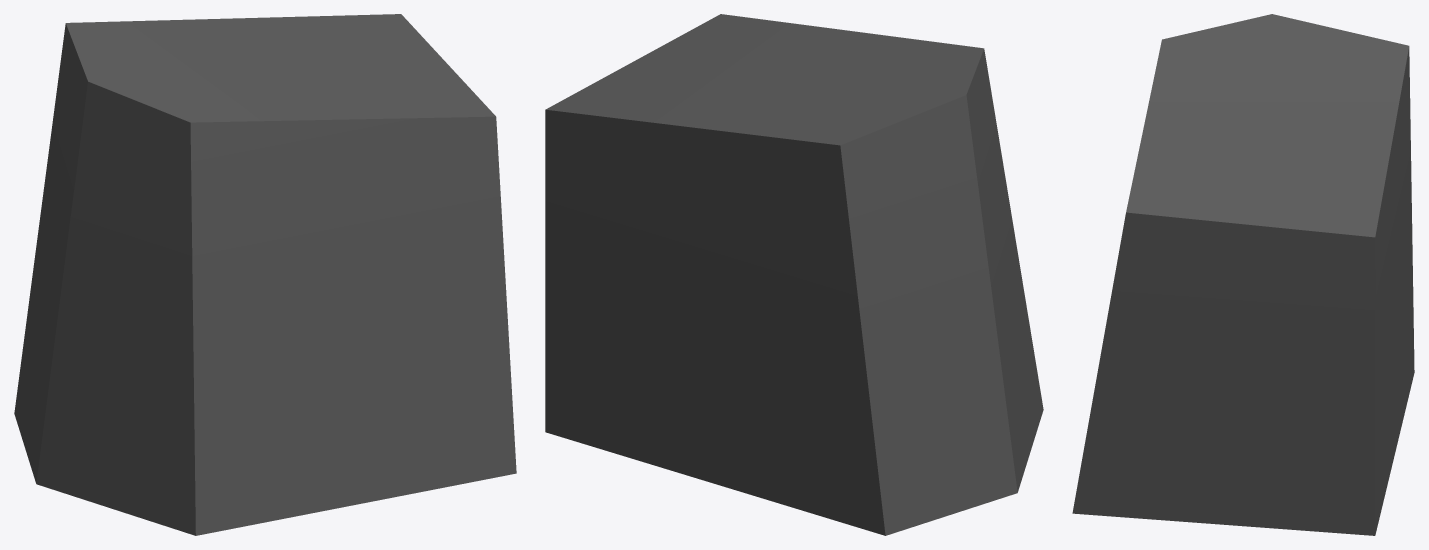
File: SmallRock_01.fbx
3 renders of one model, left to right at view 1: azimuth 30°, elevation 25°; view 2: azimuth 150°, elevation 25°; view 3: azimuth 270°, elevation 25°, orthographic. The views are drawn at different scales.
Visible parts, largest first — view 1: small_rock_07; view 2: small_rock_07; view 3: small_rock_07.
Part boxes in pixels (<box>): small_rock_07: <box>14,14,516,535</box>; small_rock_07: <box>545,14,1043,535</box>; small_rock_07: <box>1072,14,1414,535</box>.
Size of the model in its own units: 27.18 by 24.04 by 20.88.
1 material, 1 textured.
